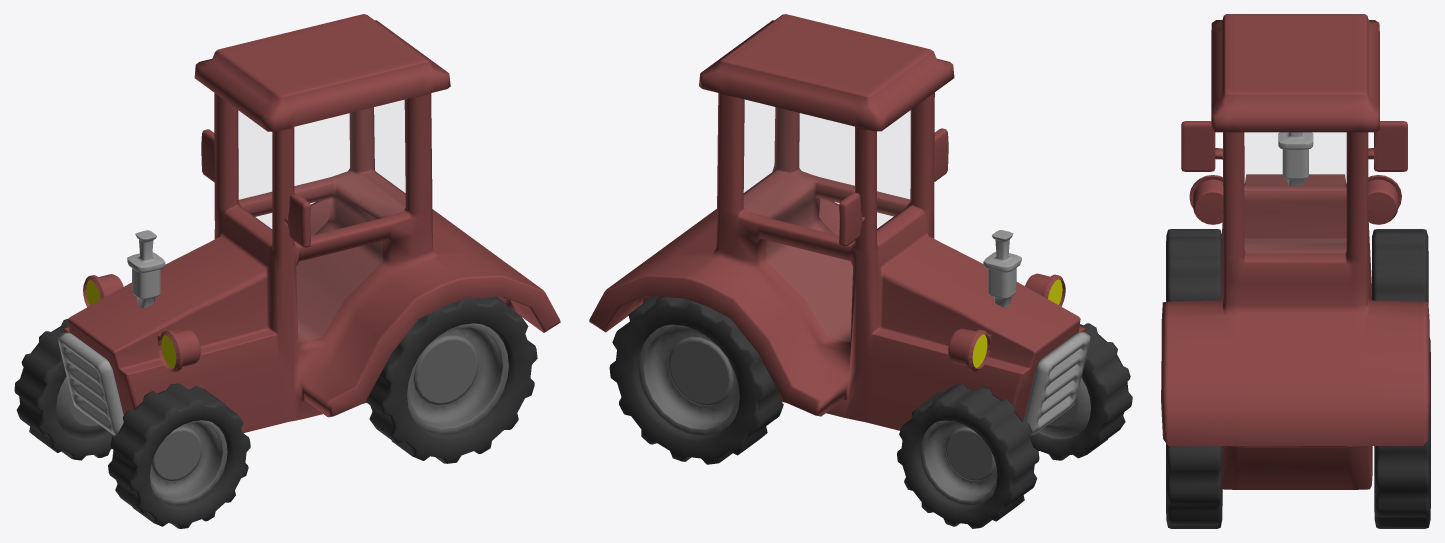
The model's file is tractor_1.fbx.
3 renders of one model, left to right at view 1: azimuth 30°, elevation 25°; view 2: azimuth 150°, elevation 25°; view 3: azimuth 270°, elevation 25°, orthographic. The views are drawn at different scales.
Parts seen in each view (by area): view 1: tractor_base, wheel_outer1, wheel_outer, wheel__inner1, wheel_outer2, wheel__inner, grate, pump, wheel__inner2, light_frame, mirror_1, mirror_2 (+1 smaller); view 2: tractor_base, wheel_outer3, wheel_outer2, wheel__inner3, wheel_outer, wheel__inner2, grate, pump, wheel__inner, light_frame1, mirror_2, mirror_1 (+1 smaller); view 3: tractor_base, wheel_outer3, wheel_outer1, wheel_outer2, wheel_outer, mirror_1, mirror_2, pump, light_frame, light_frame1, tractor_glass1.
Boxes of the visible parts, x1,y1,x2,y2 form: tractor_base: [62, 14, 560, 432]; wheel_outer1: [366, 296, 537, 463]; wheel_outer: [108, 383, 250, 528]; wheel__inner1: [407, 323, 508, 434]; wheel_outer2: [14, 318, 114, 460]; wheel__inner: [150, 420, 227, 505]; grate: [58, 332, 123, 435]; pump: [127, 230, 165, 308]; wheel__inner2: [56, 376, 108, 438]; light_frame: [157, 329, 200, 372]; mirror_1: [284, 193, 310, 247]; mirror_2: [201, 129, 214, 182]; tractor_base: [589, 14, 1085, 430]; wheel_outer3: [609, 296, 783, 464]; wheel_outer2: [897, 384, 1039, 528]; wheel__inner3: [638, 324, 739, 435]; wheel_outer: [1030, 323, 1132, 460]; wheel__inner2: [920, 420, 997, 505]; grate: [1023, 331, 1090, 435]; pump: [983, 230, 1021, 307]; wheel__inner: [1038, 378, 1090, 439]; light_frame1: [948, 328, 991, 371]; mirror_2: [839, 192, 864, 246]; mirror_1: [934, 128, 948, 181]; tractor_base: [1161, 14, 1430, 489]; wheel_outer3: [1374, 337, 1430, 528]; wheel_outer1: [1166, 443, 1222, 528]; wheel_outer2: [1372, 229, 1428, 302]; wheel_outer: [1166, 229, 1222, 301]; mirror_1: [1181, 121, 1222, 171]; mirror_2: [1368, 121, 1407, 171]; pump: [1278, 132, 1313, 185]; light_frame: [1189, 175, 1223, 224]; light_frame1: [1368, 175, 1401, 224]; tractor_glass1: [1245, 239, 1345, 242].
Bounding box in the file's own units: 12.65 × 10.84 × 6.26.
